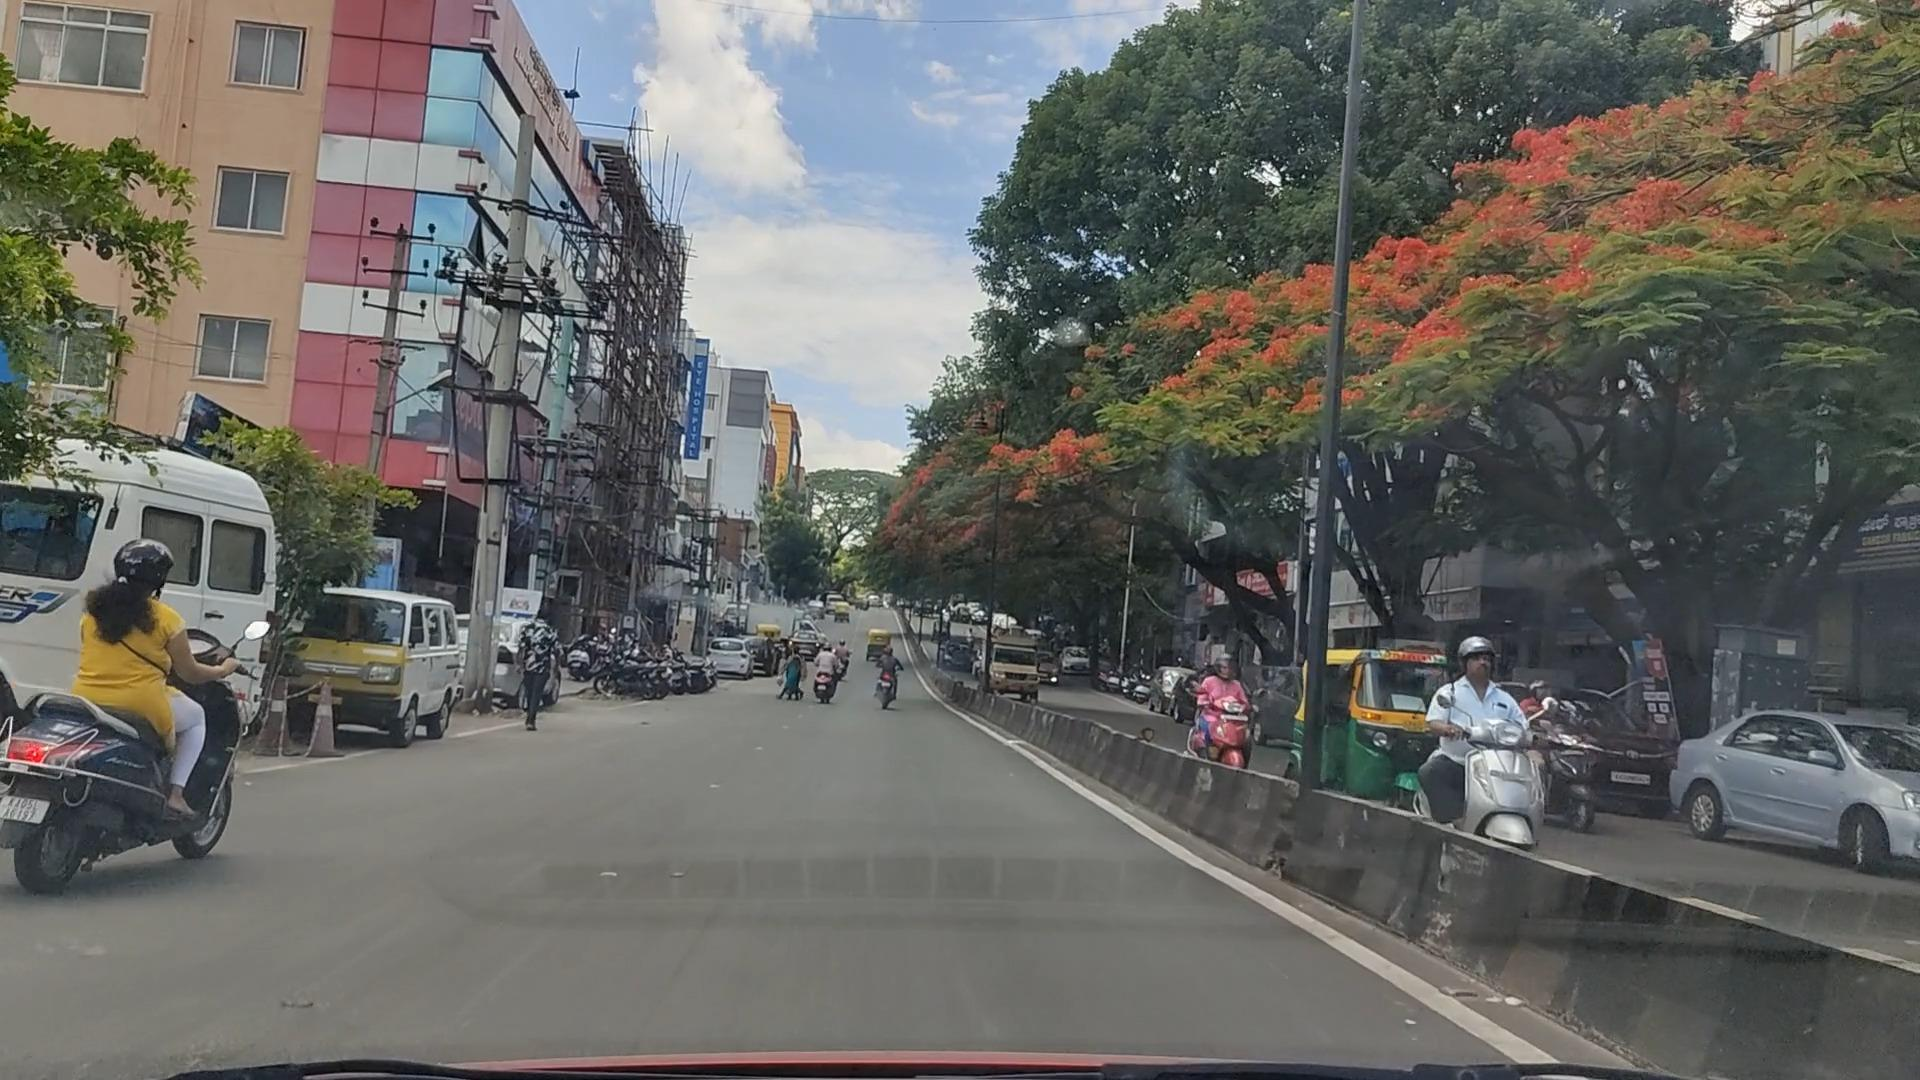LMV: (36, 513, 256, 882)
